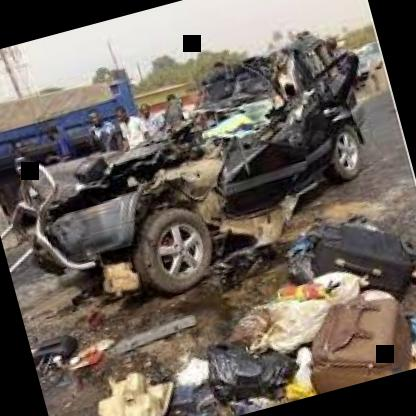accident: (0, 13, 392, 331)
